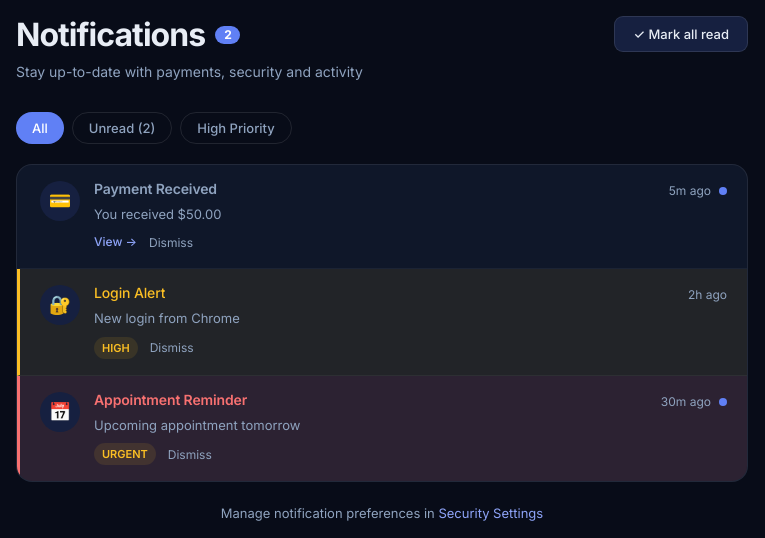
Test: Notifications › filter interaction › filters to high priority notifications
Expected: the heading "Payment Received" is shown, [94,181,217,198]
Click the button "High Priority" at (236, 128), box [180,112,292,144]
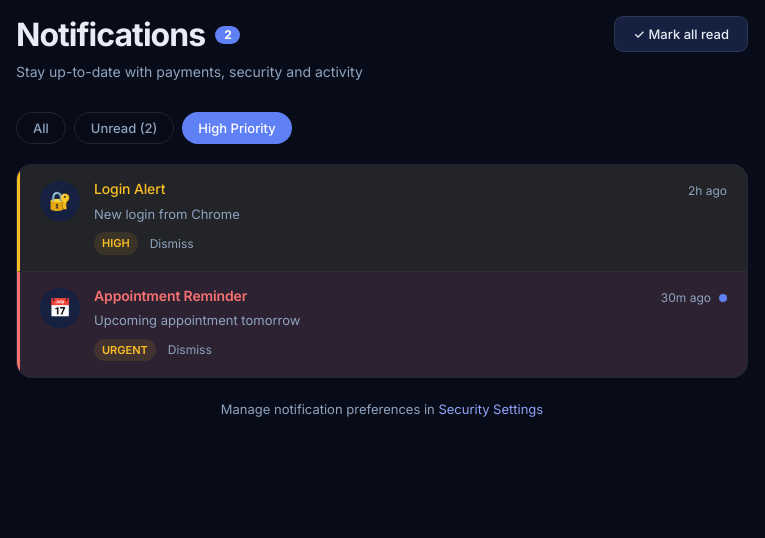
Expected: the heading "Login Alert" is shown, [94,181,165,198]
Result: the heading "Payment Received" is gone
